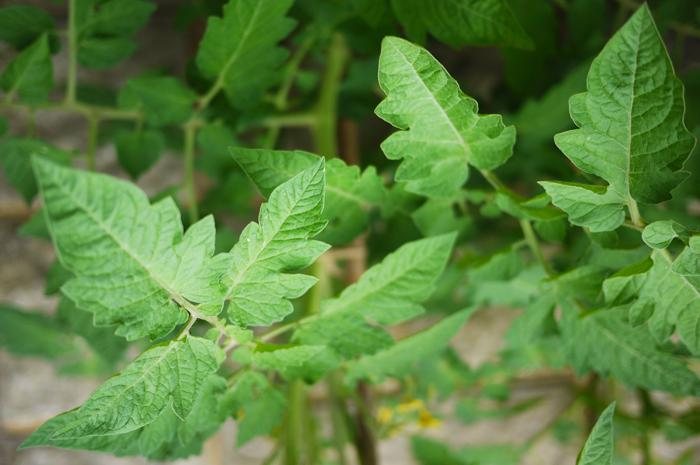Tomato leaf: (521, 0, 685, 257), (34, 154, 212, 348), (196, 147, 348, 334), (366, 29, 513, 214), (290, 227, 464, 360), (48, 322, 221, 446), (556, 291, 688, 404), (342, 294, 481, 379)
